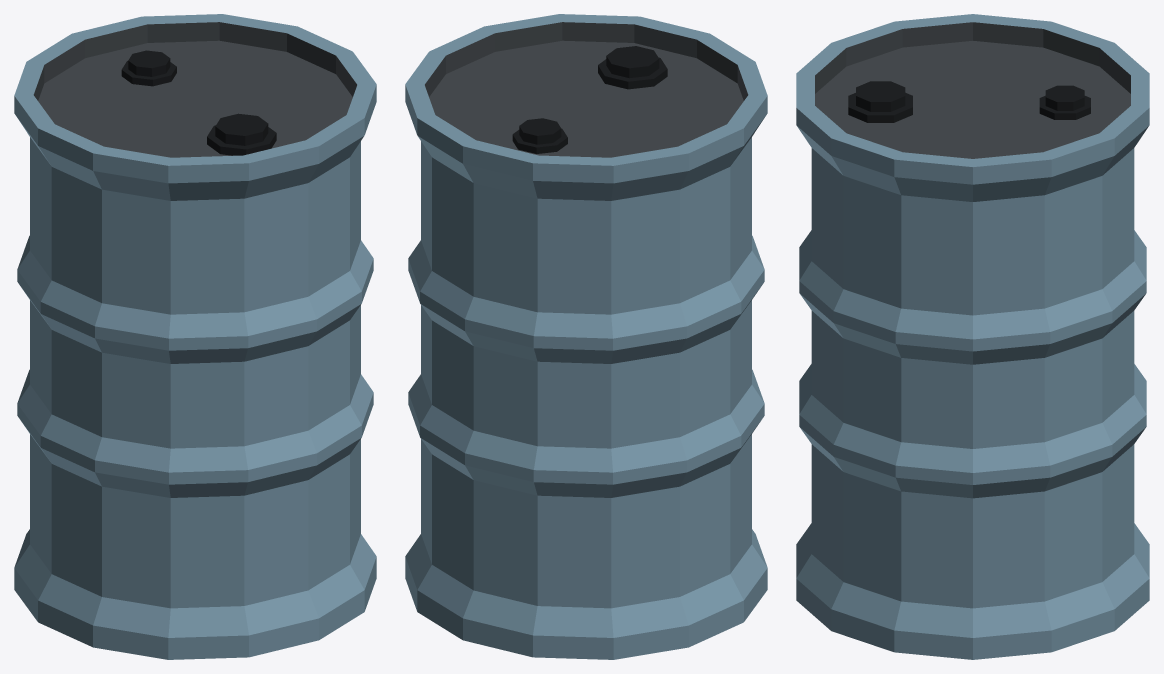
File: drum.glb
3 views of the same model, side by side, from view 1: azimuth 30°, elevation 25°; view 2: azimuth 150°, elevation 25°; view 3: azimuth 270°, elevation 25° (orthographic).
Visible parts, largest first — view 1: drum; view 2: drum; view 3: drum.
Part boxes in pixels (bbox=[...]): drum: bbox=[14, 14, 376, 659]; drum: bbox=[405, 14, 767, 659]; drum: bbox=[796, 14, 1149, 659].
Bounding box in the file's own units: 0.6 × 0.9 × 0.585.
